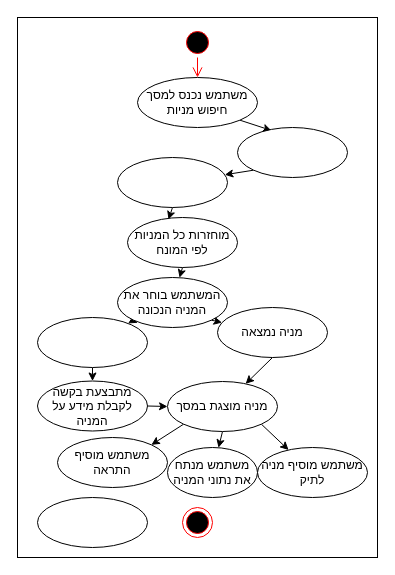
Image size: 395x575. Some labels were removed from this diagram. Each missing label, with the centre of its shape:
"מניה לא נמצאה" belongs at (92,342).
"משתמש מופנה לדף ההתחברות" belongs at (92,522).
"משתמש מקליט מונח חיפוש" belongs at (292,152).
"מתבצע חיפוש בבסיס הנתונים" belongs at (172,182).
